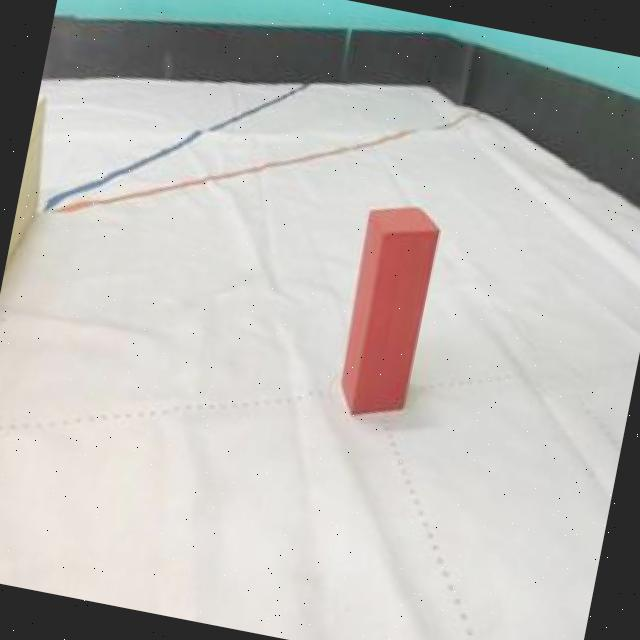redbox: (328, 196, 444, 427)
